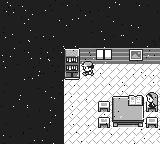leer: (128, 94, 143, 106), (129, 49, 143, 61)
main: (81, 61, 95, 76)
no-caminable: (1, 0, 160, 143), (112, 96, 143, 127), (79, 47, 128, 65), (65, 49, 80, 79), (144, 48, 160, 63)
npc: (146, 92, 158, 109)
